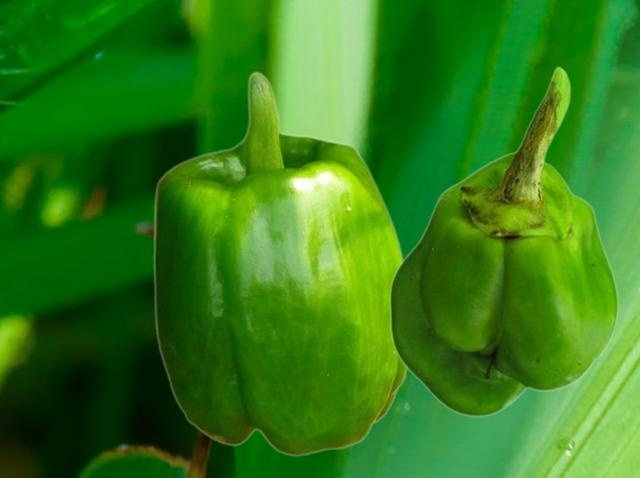bell_pepper: (152, 71, 409, 456), (388, 65, 618, 416)
